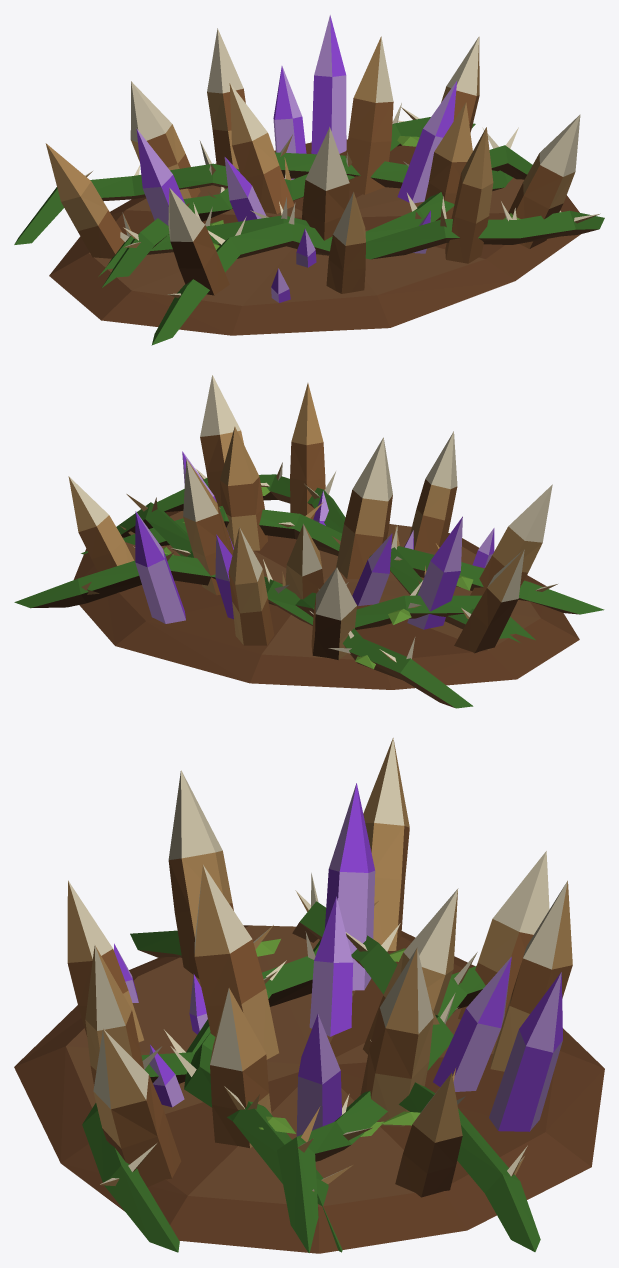
The model's file is thorn_spikes_4.glb.
3 views of the same model, one above another, from view 1: azimuth 30°, elevation 25°; view 2: azimuth 150°, elevation 25°; view 3: azimuth 270°, elevation 25° (orthographic). The views are drawn at different scales.
Visible parts, largest first — view 1: thorn_spikes_4; view 2: thorn_spikes_4; view 3: thorn_spikes_4.
Part boxes in pixels (bbox=[...]): thorn_spikes_4: bbox=[14, 15, 604, 345]; thorn_spikes_4: bbox=[14, 375, 604, 708]; thorn_spikes_4: bbox=[14, 738, 604, 1253].
Size of the model in its own units: 1.28 by 0.3862 by 0.9756.
